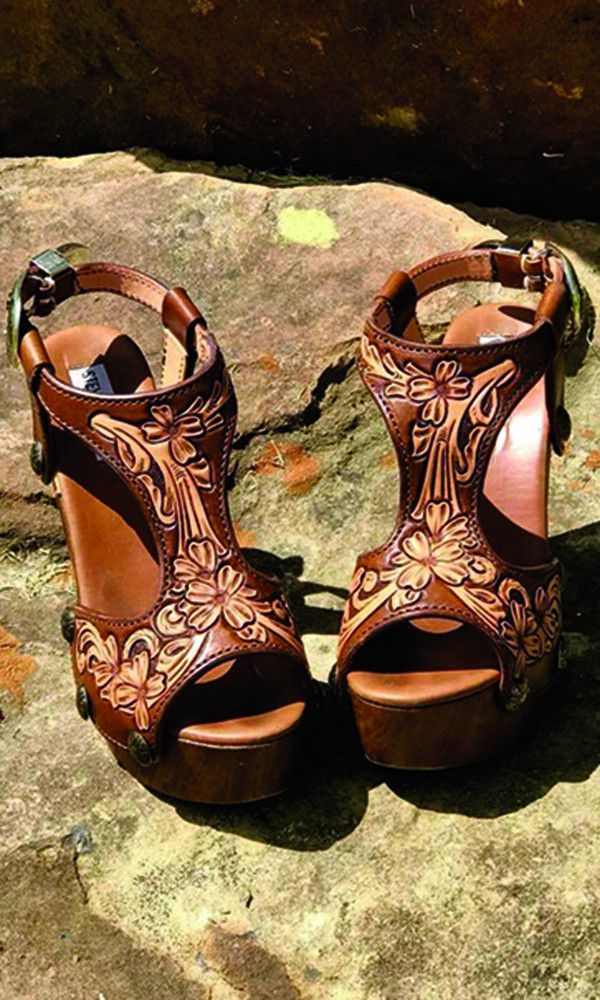cuero: (9, 238, 587, 763)
